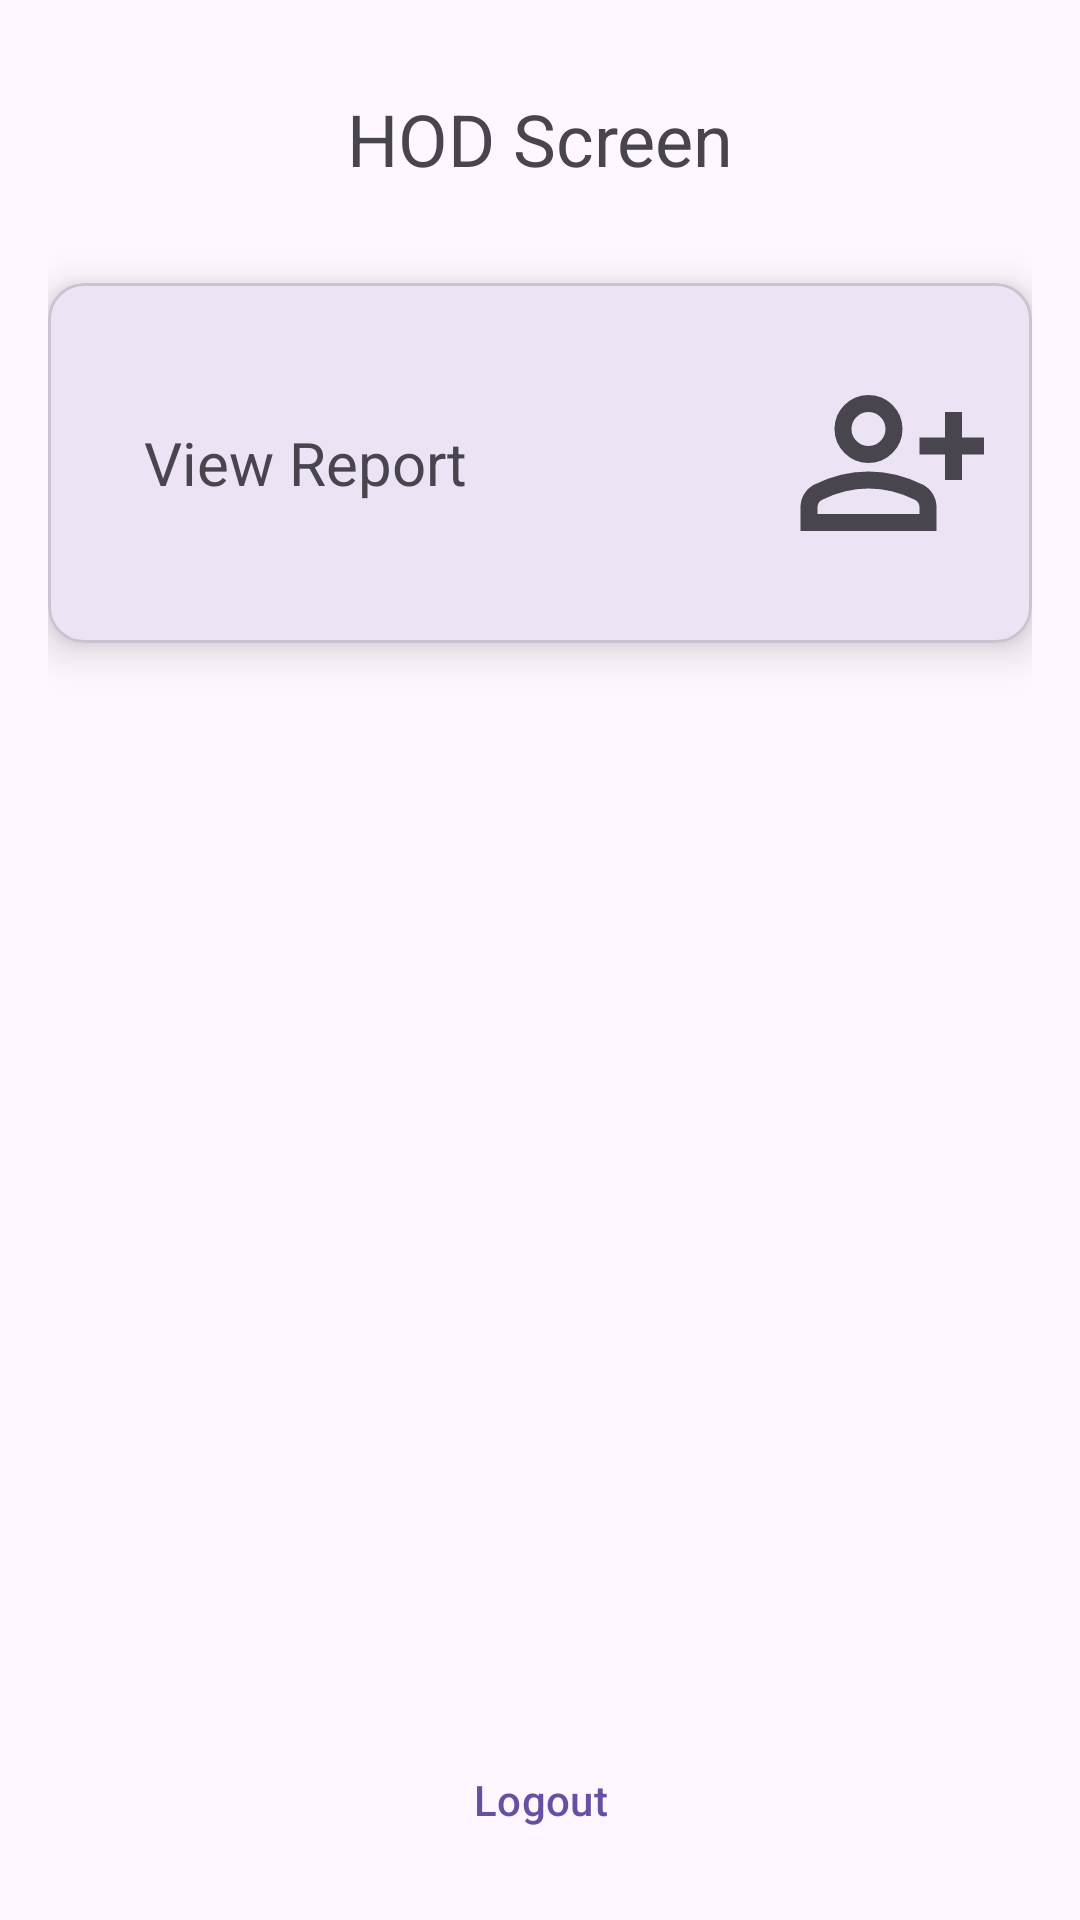

Where icons sit on this 1080*1920 app screen, as bbox(x1, y1, x2, y2):
add person: bbox(800, 395, 984, 531)
